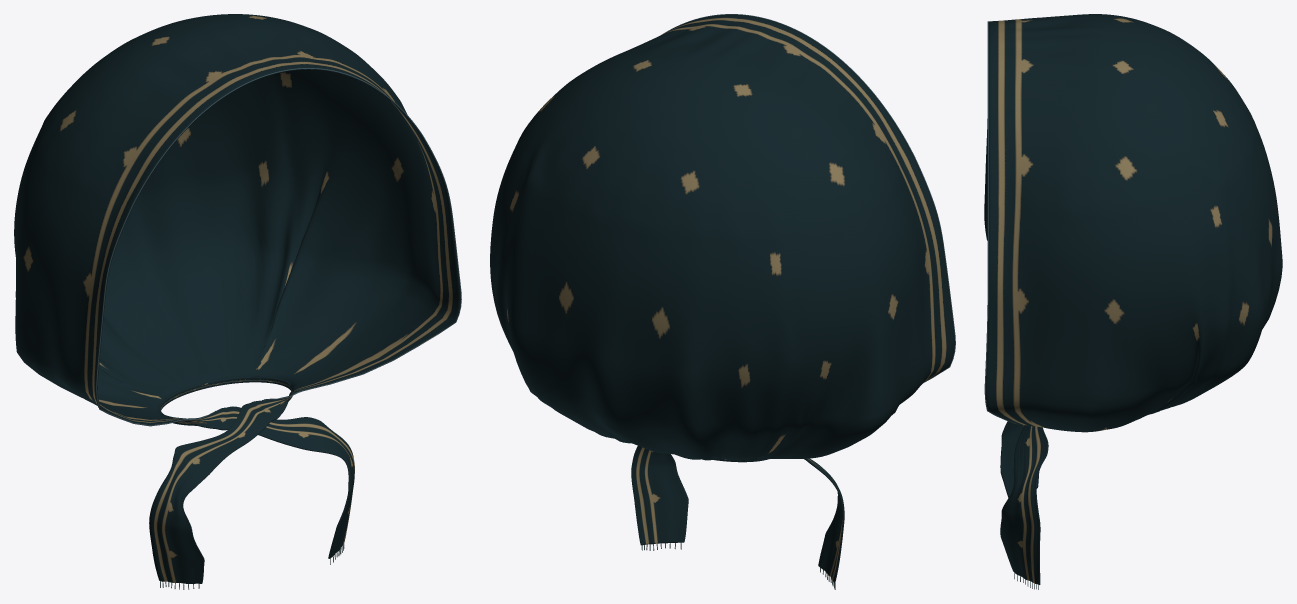
Rendered from Feminine-jersey-pashmina247-headgear.glb.
3 renders of one model, left to right at view 1: azimuth 30°, elevation 25°; view 2: azimuth 150°, elevation 25°; view 3: azimuth 270°, elevation 25°, orthographic. The views are drawn at different scales.
Visible parts, largest first — view 1: 226 headgear / Headwear / continuous woven pashmina239, 226 headgear / Headwear / face edge239; view 2: 226 headgear / Headwear / continuous woven pashmina239, 226 headgear / Headwear / face edge239; view 3: 226 headgear / Headwear / continuous woven pashmina239, 226 headgear / Headwear / face edge239.
Boxes of the visible parts, <box> form: 226 headgear / Headwear / continuous woven pashmina239: <box>14,14,460,583</box>; 226 headgear / Headwear / face edge239: <box>96,68,461,426</box>; 226 headgear / Headwear / continuous woven pashmina239: <box>490,14,954,583</box>; 226 headgear / Headwear / face edge239: <box>662,14,955,383</box>; 226 headgear / Headwear / continuous woven pashmina239: <box>984,14,1282,584</box>; 226 headgear / Headwear / face edge239: <box>984,21,1028,425</box>.
Bounding box in the file's own units: 1.02 × 1.35 × 0.7116.
Materials: 3 (1 with a texture image).
